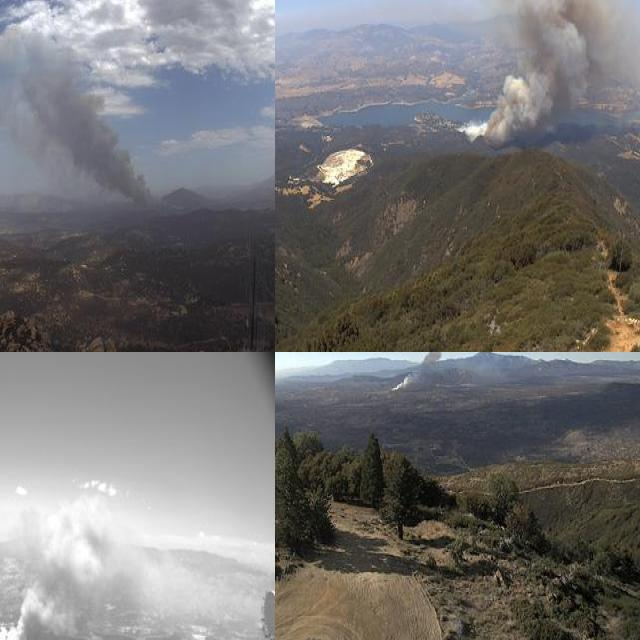smoke: (0, 471, 224, 640), (0, 19, 186, 222), (441, 0, 640, 144), (388, 352, 446, 391)
